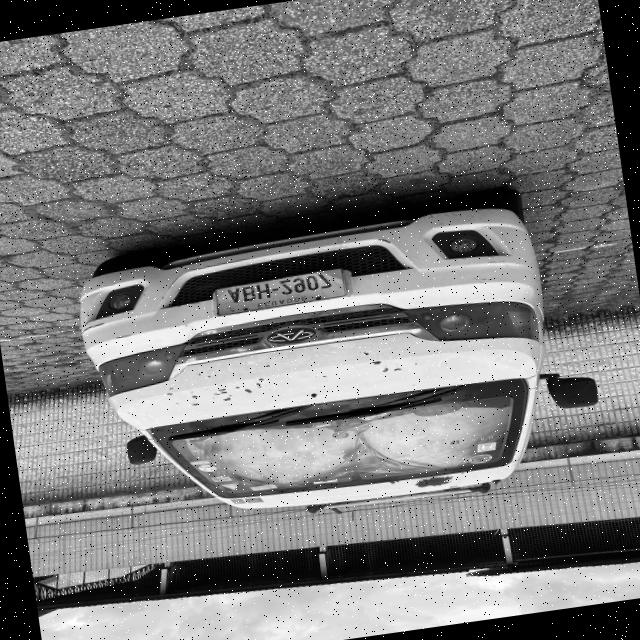Placa: (215, 269, 346, 314)
